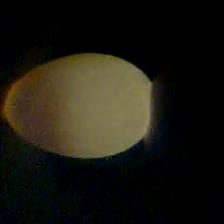infertile: (4, 50, 154, 158)
